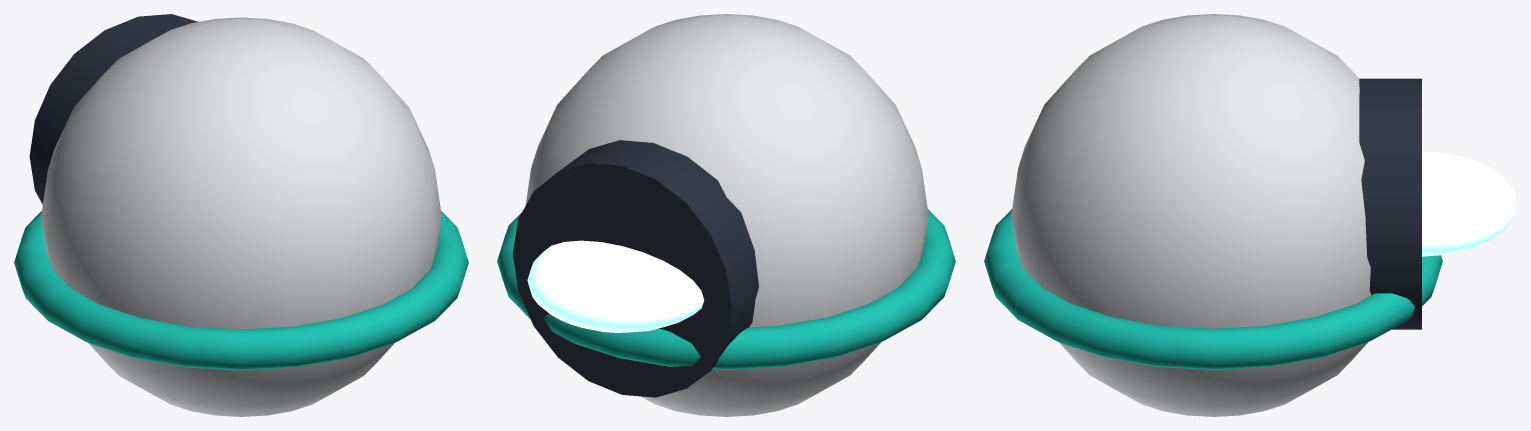
Rendered from head_mono.glb.
3 renders of one model, left to right at view 1: azimuth 30°, elevation 25°; view 2: azimuth 150°, elevation 25°; view 3: azimuth 270°, elevation 25°, orthographic.
Visible parts, largest first — view 1: Ball, Band, EyeRing; view 2: Ball, EyeRing, Band, Eye; view 3: Ball, Band, EyeRing, Eye.
Part boxes in pixels (x1,y1,x2,y2): Ball: (41, 17, 441, 416); Band: (14, 211, 468, 370); EyeRing: (29, 14, 198, 204); Ball: (525, 14, 928, 416); EyeRing: (512, 140, 758, 397); Band: (497, 209, 955, 370); Eye: (527, 240, 704, 332); Ball: (1011, 14, 1371, 416); Band: (984, 209, 1442, 370); EyeRing: (1359, 78, 1421, 329); Eye: (1422, 151, 1516, 256).
Size of the model in its own units: 0.726 by 0.64 by 0.843.
